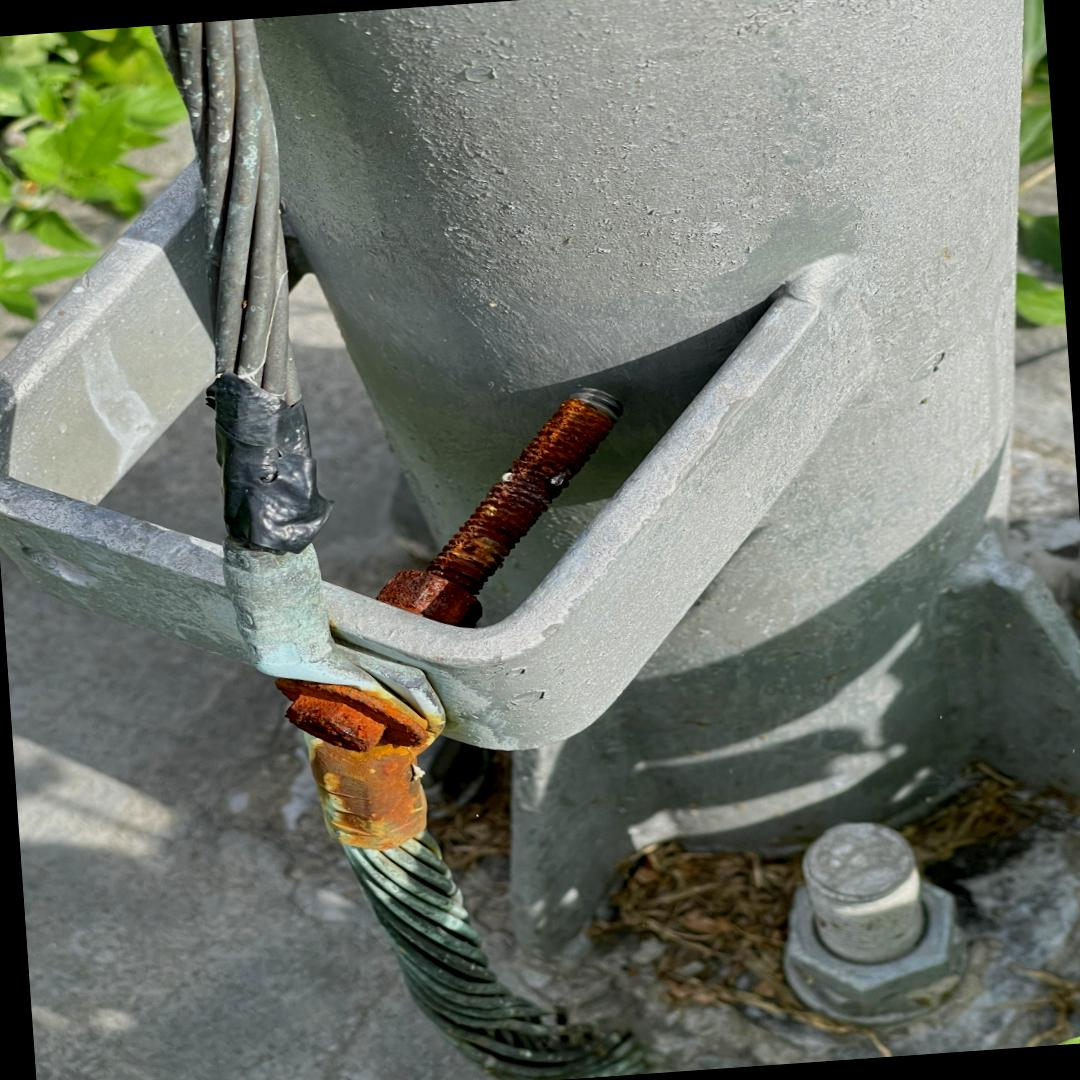Metal: (0, 0, 1080, 1080)
Metal corroido: (385, 397, 618, 626), (276, 680, 430, 855)
